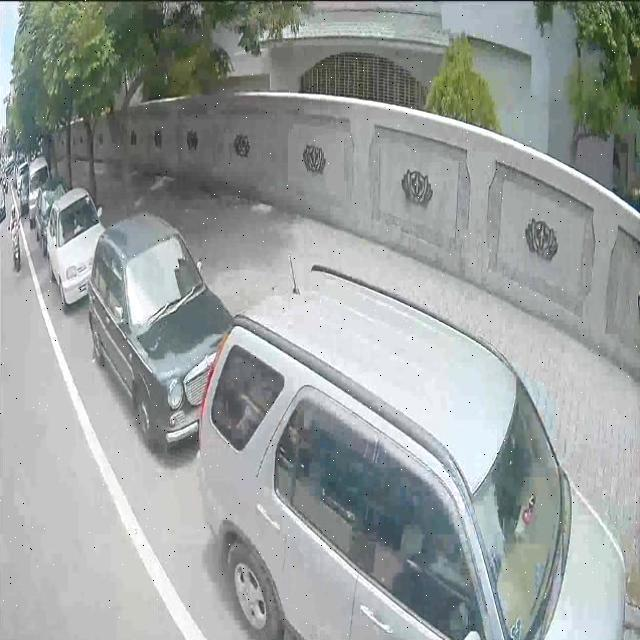person: (10, 204, 20, 230)
